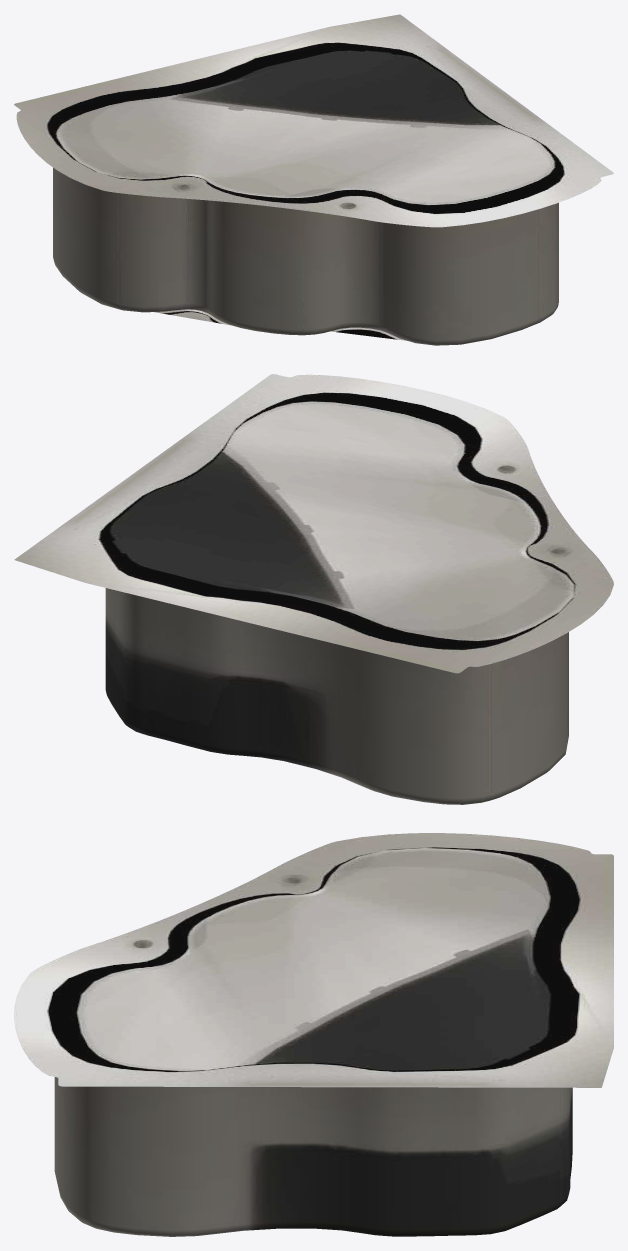
File: YuGang.FBX
The picture shows the model from 3 angles, top to bottom: view 1: azimuth 30°, elevation 25°; view 2: azimuth 150°, elevation 25°; view 3: azimuth 270°, elevation 25°; orthographic projection. The views are drawn at different scales.
Visible parts, largest first — view 1: YuGang; view 2: YuGang; view 3: YuGang.
Part boxes in pixels (bbox=[...]): YuGang: bbox=[14, 14, 613, 345]; YuGang: bbox=[14, 374, 613, 804]; YuGang: bbox=[14, 833, 613, 1236].
Size of the model in its own units: 1.27 by 0.3963 by 1.26.
